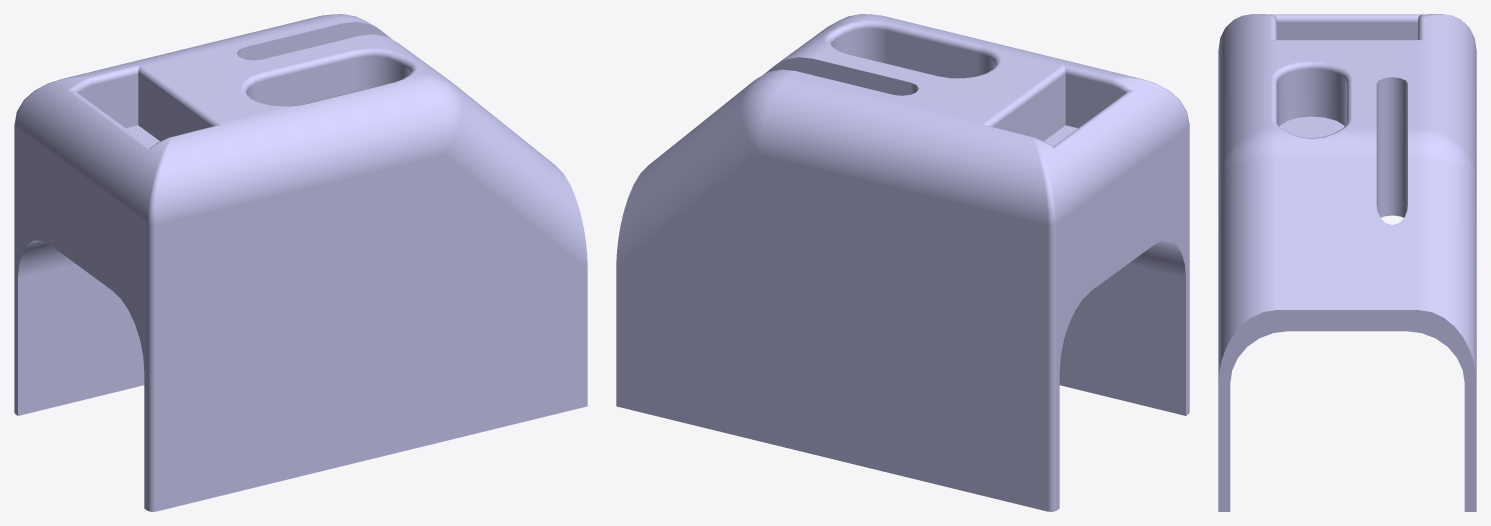
Rendered from Mittelkonsolenabdeckung_hinten.dae.
3 views of the same model, side by side, from view 1: azimuth 30°, elevation 25°; view 2: azimuth 150°, elevation 25°; view 3: azimuth 270°, elevation 25° (orthographic). The views are drawn at different scales.
Parts seen in each view (by area): view 1: Mittelkonsolenabdeckung_hinten; view 2: Mittelkonsolenabdeckung_hinten; view 3: Mittelkonsolenabdeckung_hinten.
Part boxes in pixels (left/top/right/bottom): Mittelkonsolenabdeckung_hinten: left=14, top=14, right=587, bottom=511; Mittelkonsolenabdeckung_hinten: left=616, top=14, right=1189, bottom=511; Mittelkonsolenabdeckung_hinten: left=1218, top=14, right=1476, bottom=511.
Size of the model in its own units: 400 by 220 by 300.
